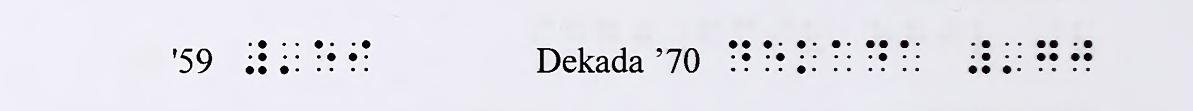digit_0: (1071, 40, 1092, 72)
digit_5: (314, 40, 336, 72)
digit_7: (1037, 40, 1058, 72)
digit_9: (349, 40, 370, 72)
letter_D: (729, 40, 751, 72)
letter_a: (900, 40, 920, 72), (832, 40, 851, 72)
letter_d: (866, 40, 887, 72)
letter_e: (763, 40, 785, 72)
letter_k: (797, 40, 817, 74)
number_sign: (246, 40, 267, 76), (969, 40, 990, 74)
